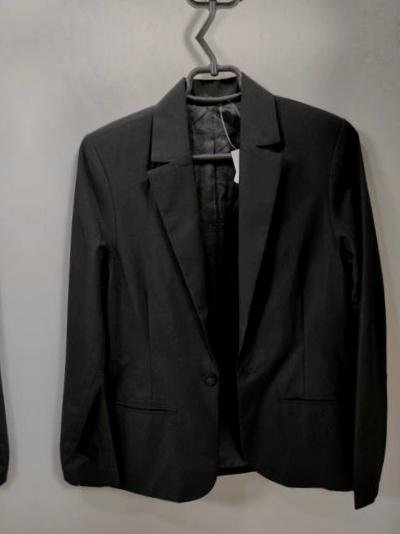Blazer: (32, 67, 400, 516), (0, 76, 29, 524), (21, 0, 394, 7), (0, 0, 18, 15)
